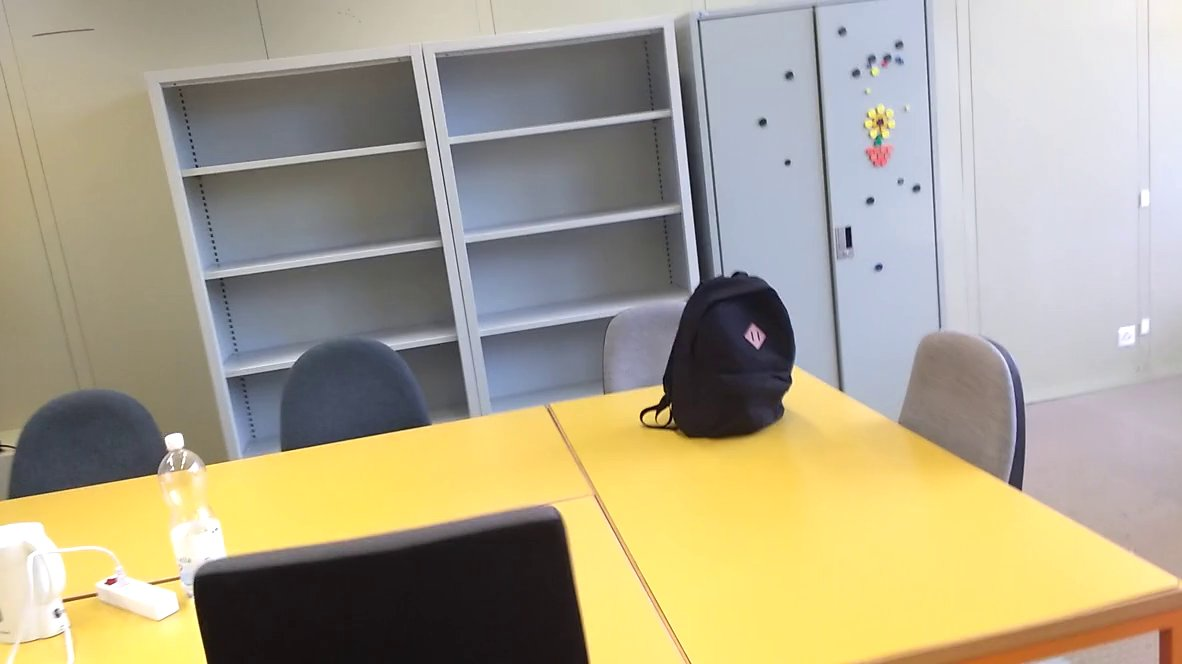bag: (634, 265, 807, 449)
chair: (190, 498, 596, 664), (882, 317, 1032, 507), (5, 366, 181, 501), (272, 317, 439, 457), (585, 285, 703, 401)
